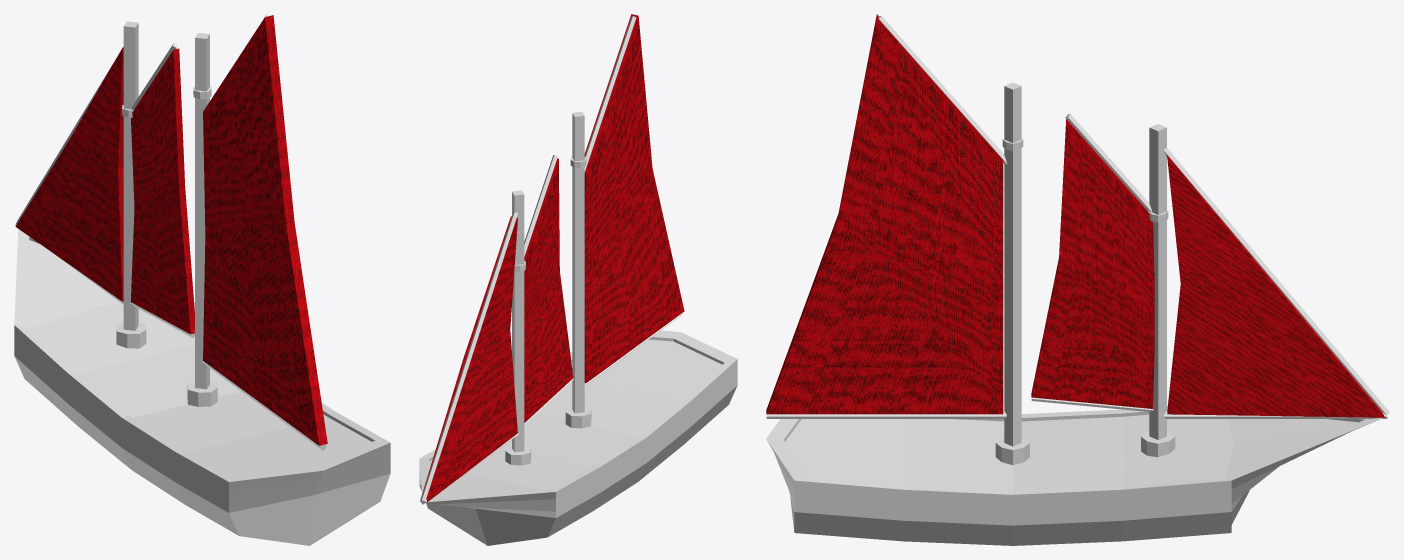
Rendered from test boat.fbx.
The picture shows the model from 3 angles, left to right: view 1: azimuth 30°, elevation 25°; view 2: azimuth 150°, elevation 25°; view 3: azimuth 270°, elevation 25°; orthographic projection. The views are drawn at different scales.
Visible parts, largest first — view 1: Cube; view 2: Cube; view 3: Cube.
Part boxes in pixels (x1=…): Cube: x1=14, y1=14, x2=390, y2=545; Cube: x1=419, y1=14, x2=737, y2=545; Cube: x1=766, y1=14, x2=1389, y2=545.
Bounding box in the file's own units: 86.96 × 263 × 285.
3 materials, 1 textured.
